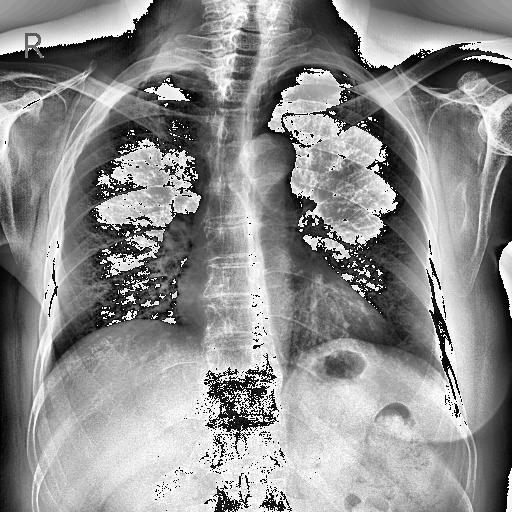0- Aortic enlargement: (249, 134, 294, 192), (251, 131, 296, 180)
11- Pleural thickening: (276, 62, 354, 80), (129, 67, 186, 87)
3- Cardiomegaly: (173, 273, 386, 350), (174, 274, 388, 348), (172, 288, 390, 344)
